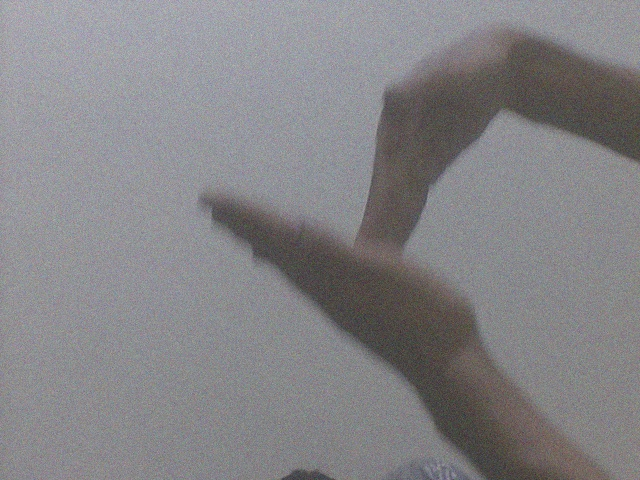hand: (191, 181, 486, 382), (342, 15, 522, 257)
